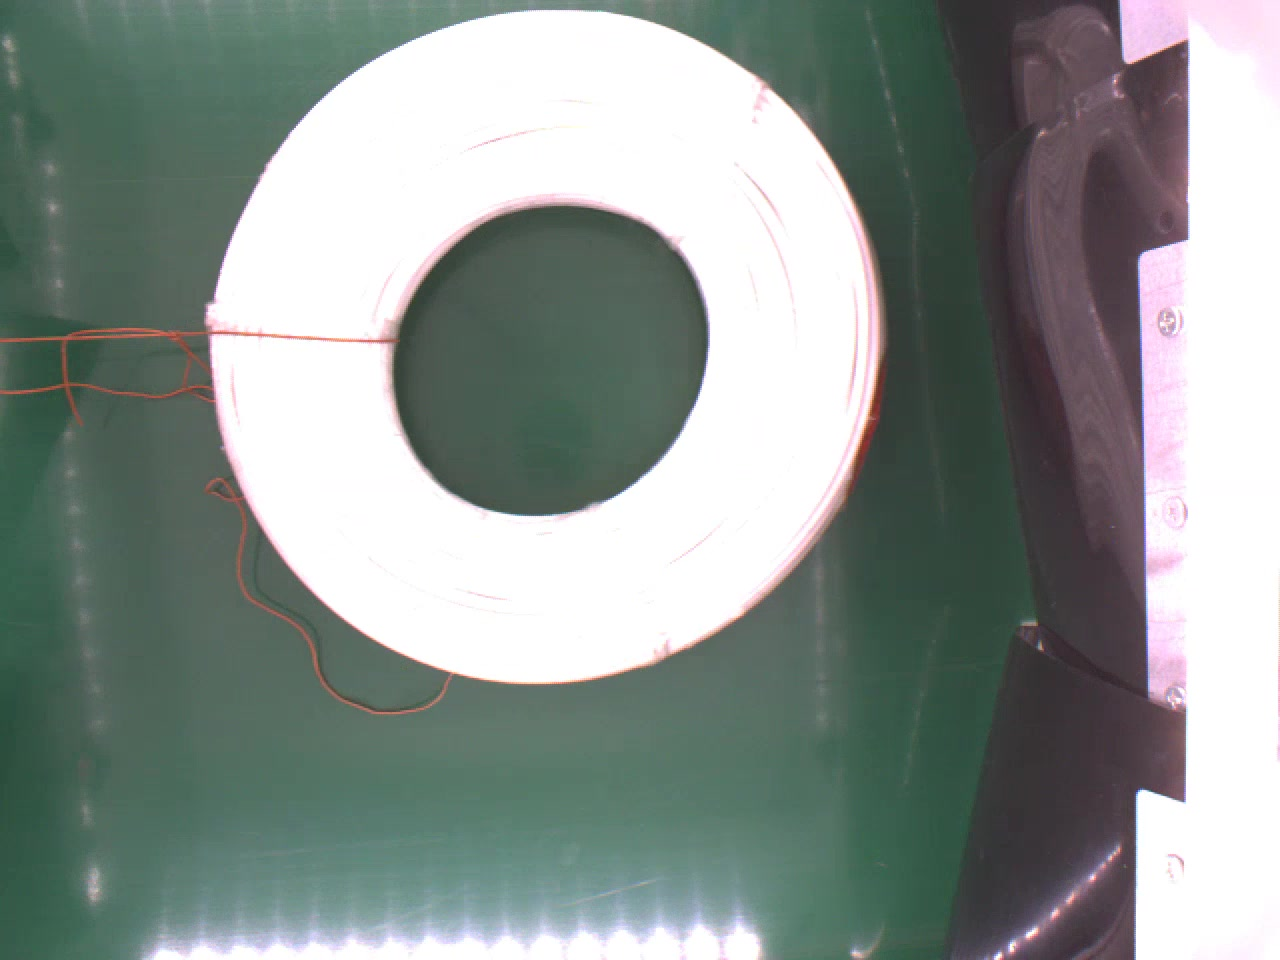white: (199, 5, 888, 683)
